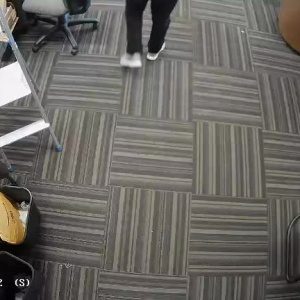person: (118, 0, 180, 68)
